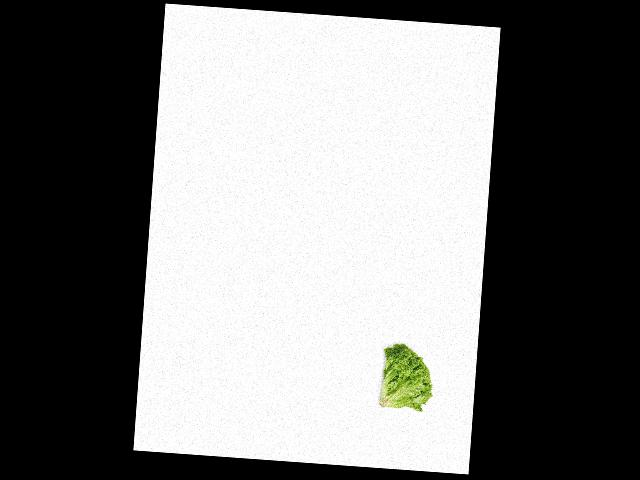lettuce: (372, 338, 439, 415)
